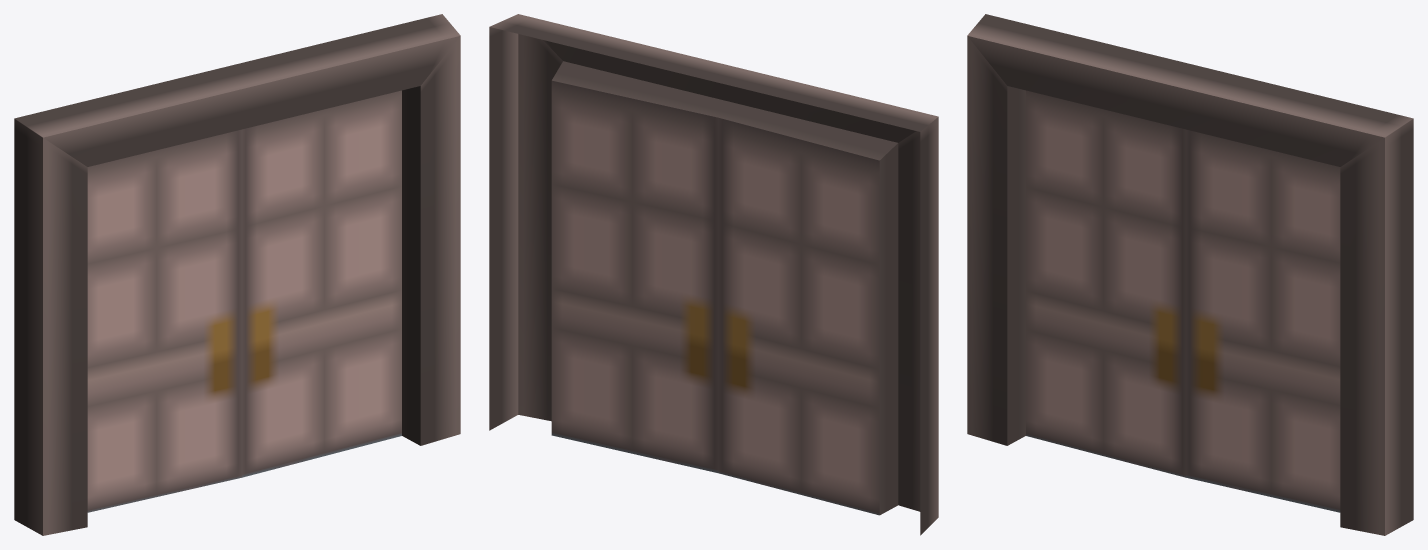
The model's file is door_double_v3_001.fbx.
3 renders of one model, left to right at view 1: azimuth 30°, elevation 25°; view 2: azimuth 150°, elevation 25°; view 3: azimuth 330°, elevation 25°, orthographic.
Visible parts, largest first — view 1: door_double_v3_001; view 2: door_double_v3_001; view 3: door_double_v3_001.
Part boxes in pixels (x1,y1,x2,y2): door_double_v3_001: (14, 14, 460, 535); door_double_v3_001: (489, 14, 938, 535); door_double_v3_001: (967, 14, 1413, 535).
Size of the model in its own units: 200 by 179 by 20.9.
